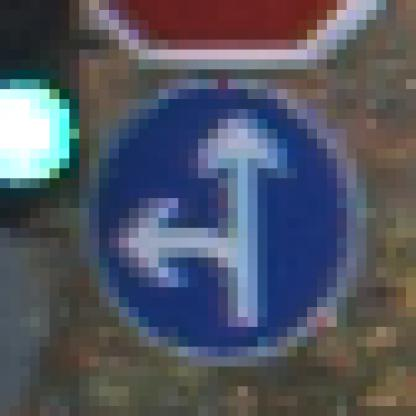Straight or Left: (61, 61, 368, 368)
